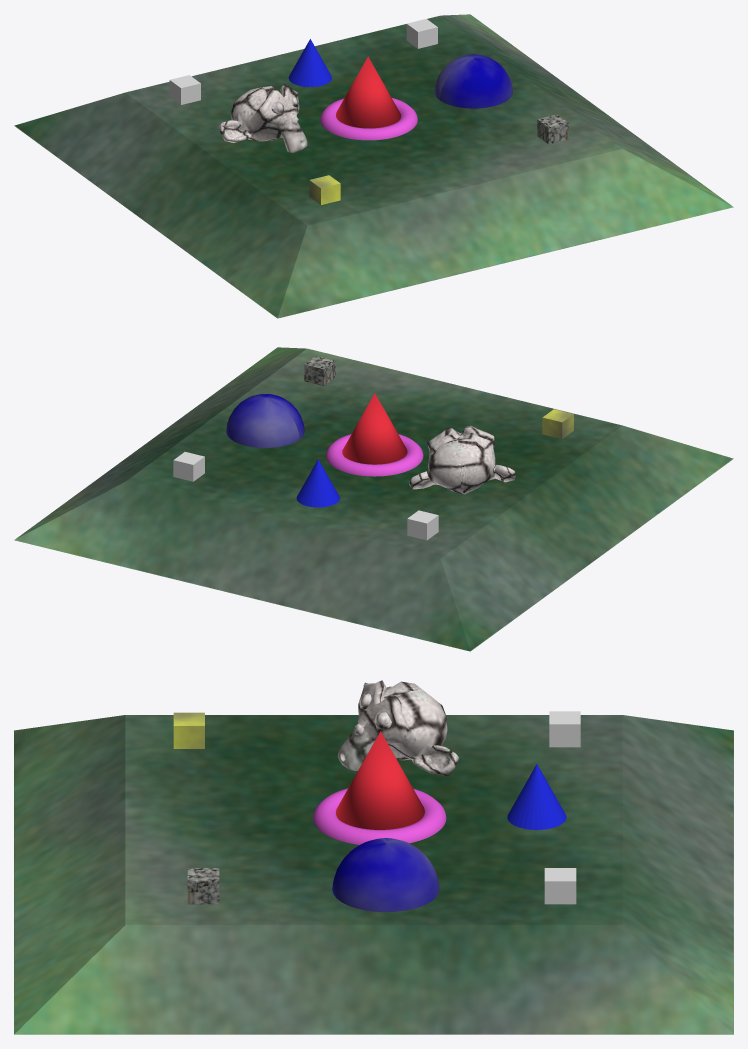
The model's file is skene2M_textured.gltf.
3 views of the same model, one above another, from view 1: azimuth 30°, elevation 25°; view 2: azimuth 150°, elevation 25°; view 3: azimuth 270°, elevation 25° (orthographic). The views are drawn at different scales.
Parts seen in each view (by area): view 1: Plane, Suzanne, Sphere, Cone, Torus, Cone.001, Cube.002, Cube.003, Cube, Cube.001; view 2: Plane, Suzanne, Sphere, Cone, Torus, Cone.001, Cube.001, Cube, Cube.002, Cube.003; view 3: Plane, Suzanne, Sphere, Cone, Torus, Cone.001, Cube.001, Cube.002, Cube, Cube.003.
Boxes of the visible parts, x1,y1,x2,y2 form: Plane: [14, 14, 733, 318]; Suzanne: [219, 83, 307, 152]; Sphere: [434, 54, 512, 108]; Cone: [336, 56, 400, 128]; Torus: [320, 98, 417, 140]; Cone.001: [288, 39, 331, 86]; Cube.002: [537, 114, 568, 144]; Cube.003: [309, 175, 340, 204]; Cube: [169, 75, 200, 104]; Cube.001: [406, 19, 437, 48]; Plane: [14, 347, 733, 651]; Suzanne: [409, 425, 515, 494]; Sphere: [226, 394, 304, 447]; Cone: [342, 393, 407, 464]; Torus: [326, 434, 423, 476]; Cone.001: [296, 459, 339, 507]; Cube.001: [173, 452, 204, 481]; Cube: [407, 510, 438, 540]; Cube.002: [304, 356, 335, 385]; Cube.003: [542, 409, 573, 438]; Plane: [14, 715, 733, 1034]; Suzanne: [337, 680, 459, 776]; Sphere: [332, 838, 439, 911]; Cone: [335, 731, 424, 829]; Torus: [313, 788, 446, 844]; Cone.001: [507, 764, 566, 829]; Cube.001: [544, 868, 576, 904]; Cube.002: [187, 868, 219, 904]; Cube: [549, 711, 580, 747]; Cube.003: [173, 712, 204, 748].
Size of the model in its own units: 13.35 by 3.05 by 13.35.
Materials: 10 (5 with a texture image).
